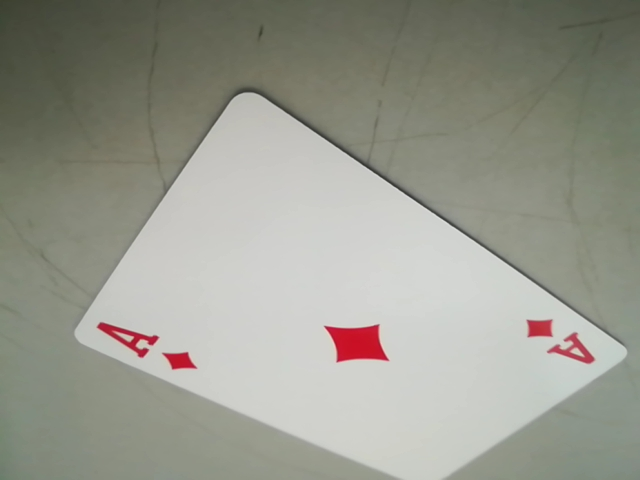fk a: (86, 318, 213, 374), (525, 310, 601, 374)
